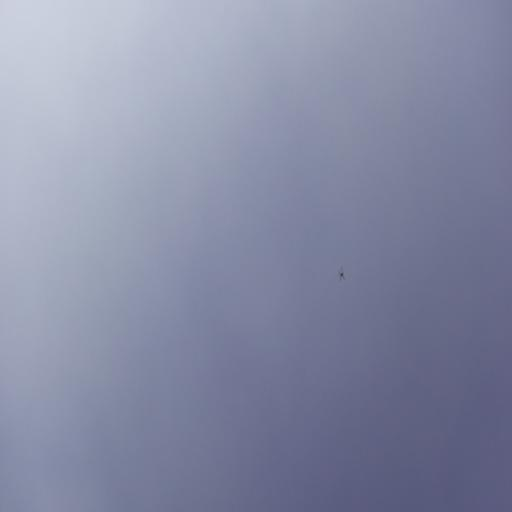drones: (337, 266, 346, 283)
